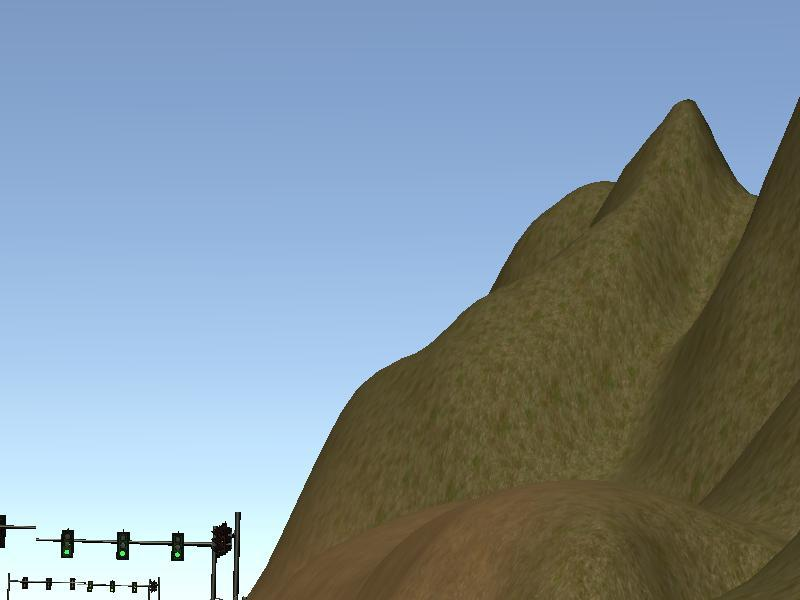Green: (60, 529, 75, 559), (116, 531, 130, 560), (171, 533, 185, 562)
